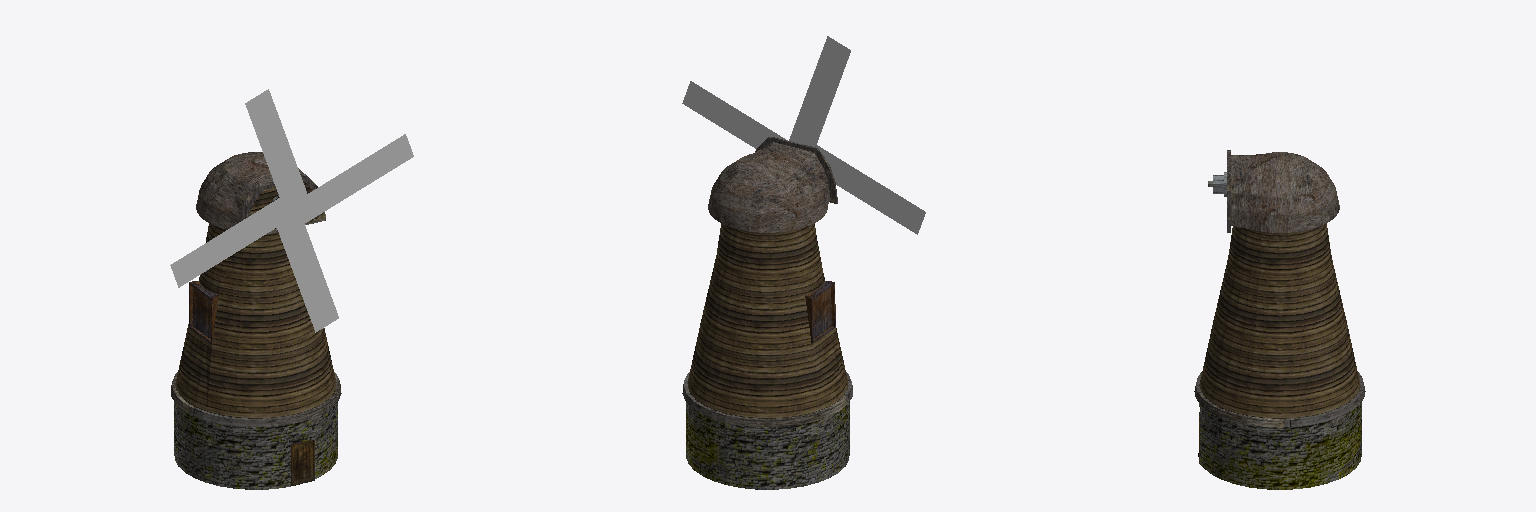
3 renders of one model, left to right at view 1: azimuth 30°, elevation 25°; view 2: azimuth 150°, elevation 25°; view 3: azimuth 270°, elevation 25°, orthographic.
Visible parts, largest first — view 1: Windmill_Circle, Windmill_Segel_Circle.001; view 2: Windmill_Circle, Windmill_Segel_Circle.001; view 3: Windmill_Circle.
Part boxes in pixels (x1,y1,x2,y2): Windmill_Circle: (171, 152, 341, 489); Windmill_Segel_Circle.001: (170, 89, 413, 332); Windmill_Circle: (682, 137, 852, 489); Windmill_Segel_Circle.001: (682, 36, 925, 234); Windmill_Circle: (1194, 150, 1365, 489).
Size of the model in its own units: 13.75 by 21.47 by 8.36.
2 materials, 1 textured.